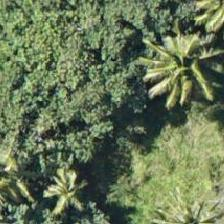coconut_tree: (133, 20, 223, 110), (141, 20, 223, 110), (22, 144, 112, 223)
